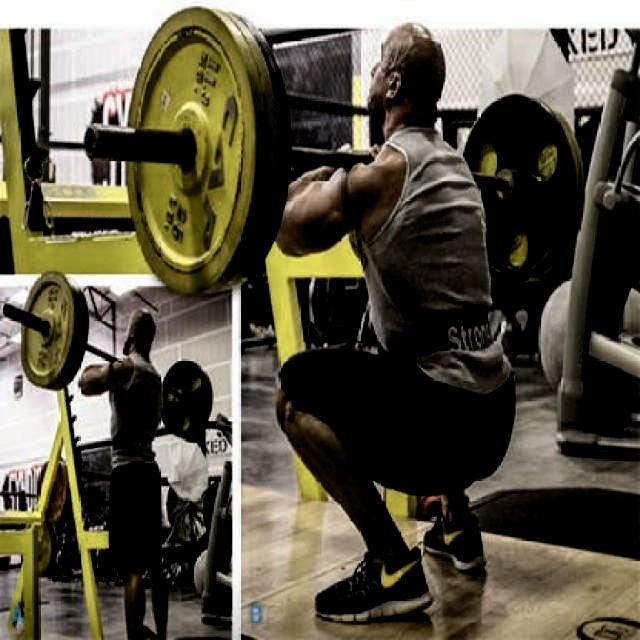barbell: (116, 6, 297, 307), (10, 271, 96, 397)
